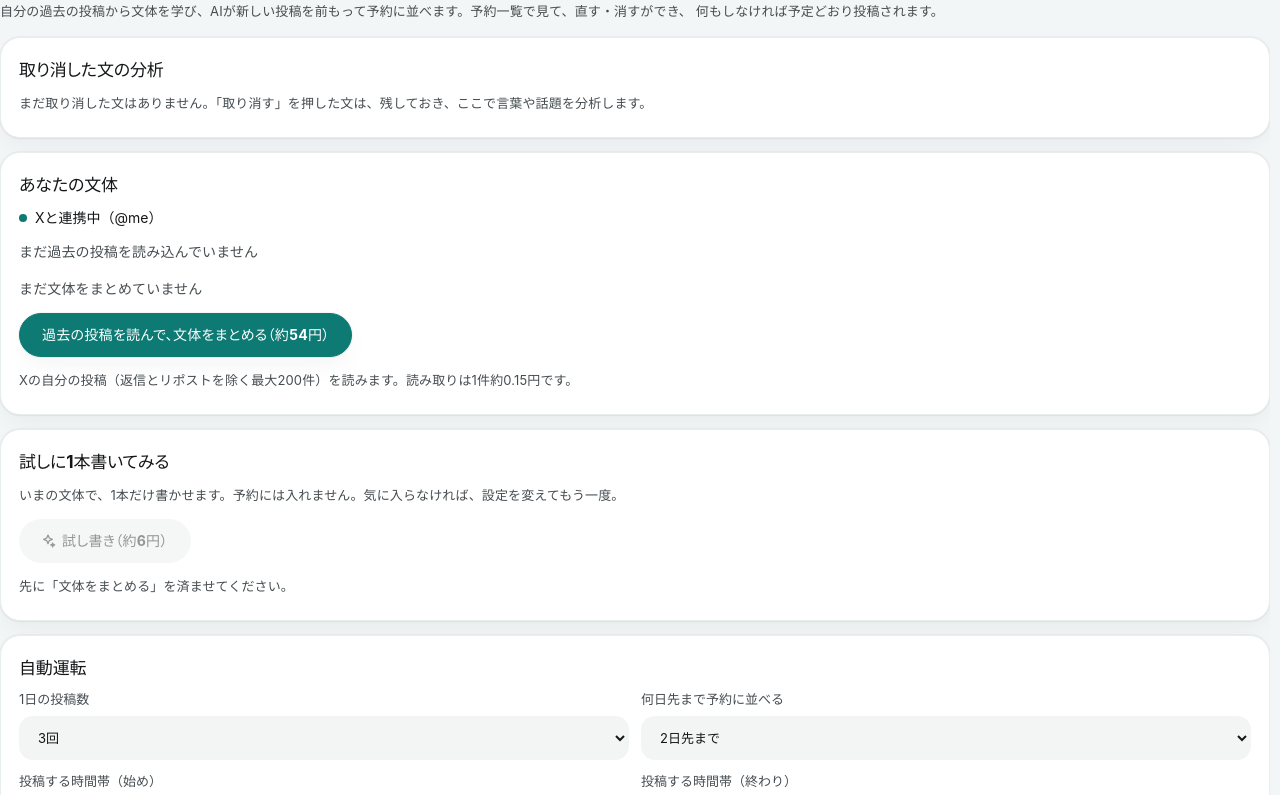
Scenario: XAutopilotPanel: 文体 › 押すと、読み込み → まとめの順に実行し、終わったら「まとめ済み」とだけ見せる（中身は出さない）
The image size is (1280, 795).
Click the button "過去の投稿を読んで、文体をまとめる（約54円）" at (186, 335), box [19,313,352,357]
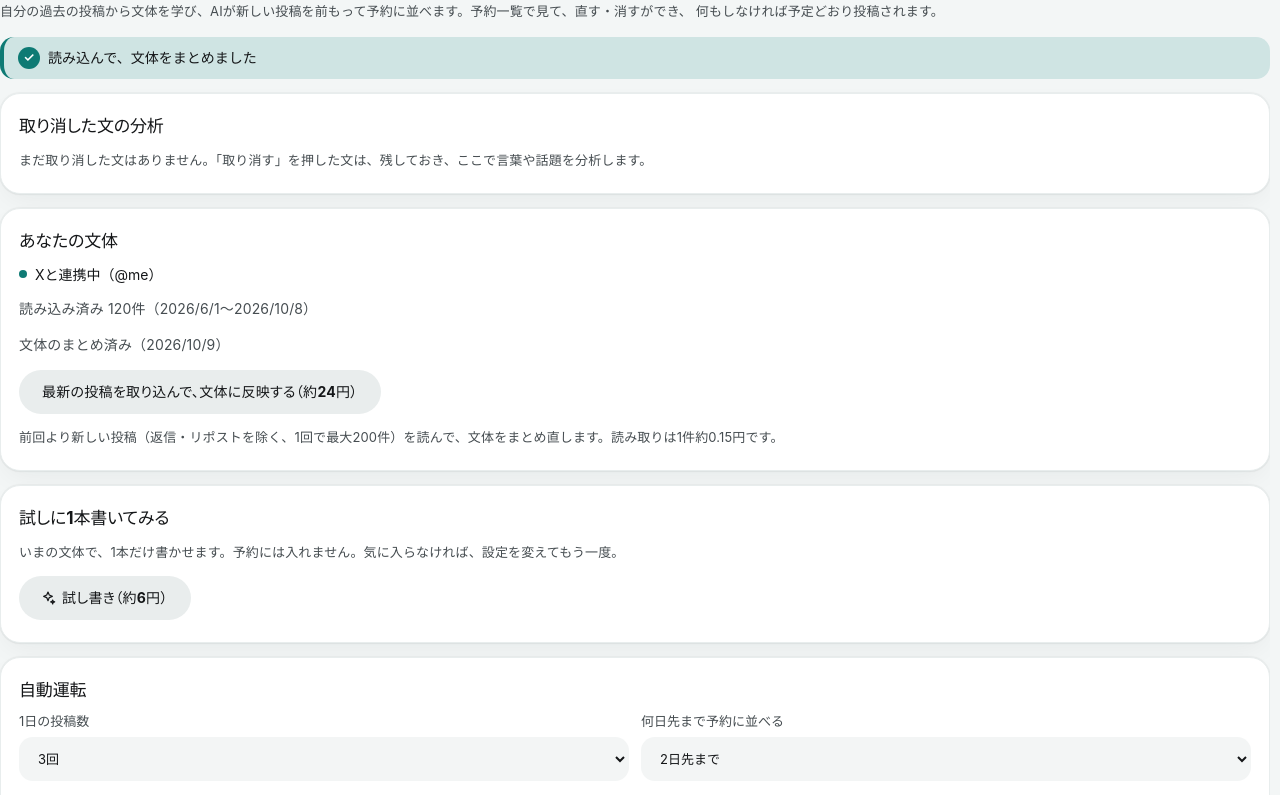
Now the text "読み込んで、文体をまとめました" is shown, box [0,37,1270,79]
Now the text "文体のまとめ済み（2026/10/9）" is shown, box [19,336,230,353]
Now the text "読み込み済み 120件（2026/6/1〜2026/10/8）" is shown, box [19,300,317,317]
